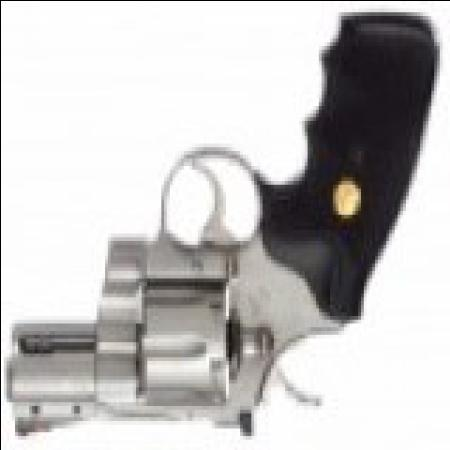Pistol: (6, 15, 436, 443)
